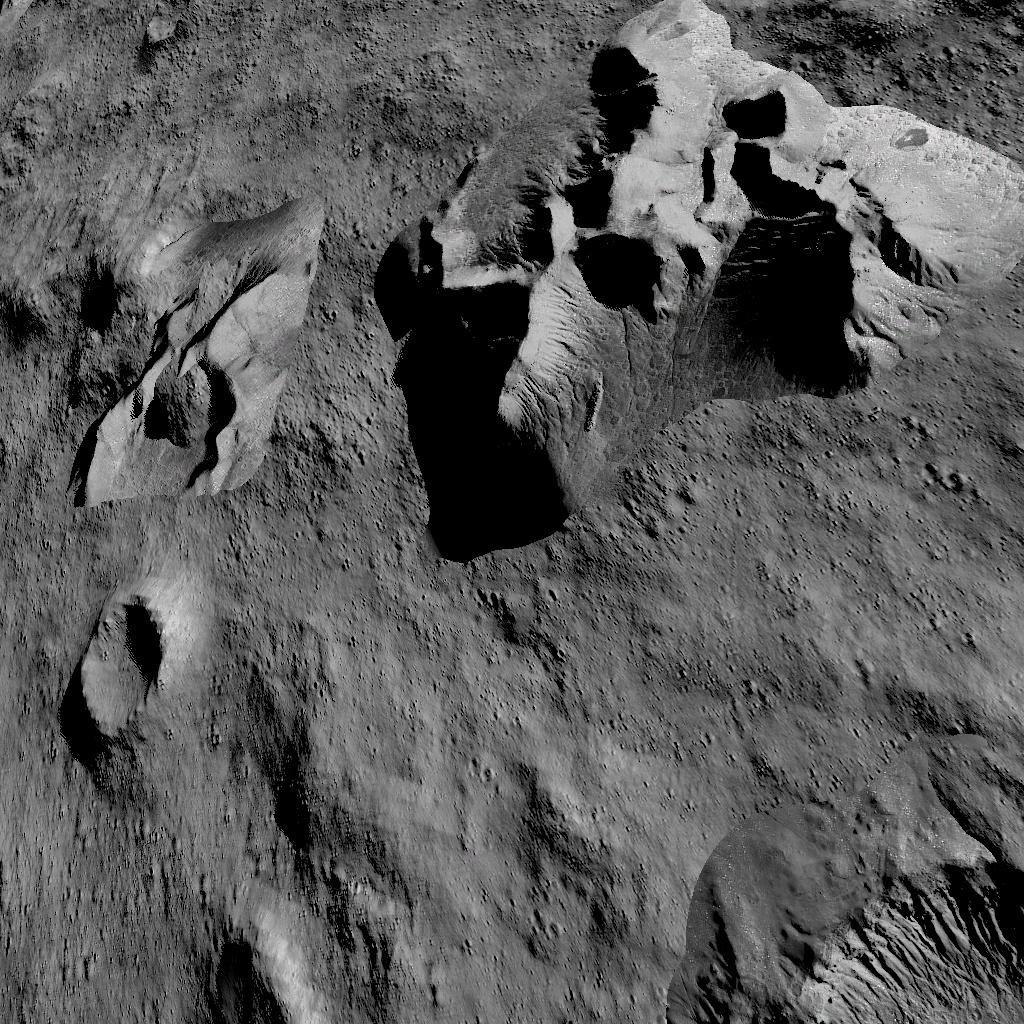Boulders: (364, 0, 1024, 567)
Crater: (0, 244, 288, 517), (756, 849, 1024, 1024), (36, 580, 187, 800), (106, 0, 224, 71)
Plan surface: (216, 601, 721, 1024), (746, 584, 1024, 808), (8, 88, 330, 227)
